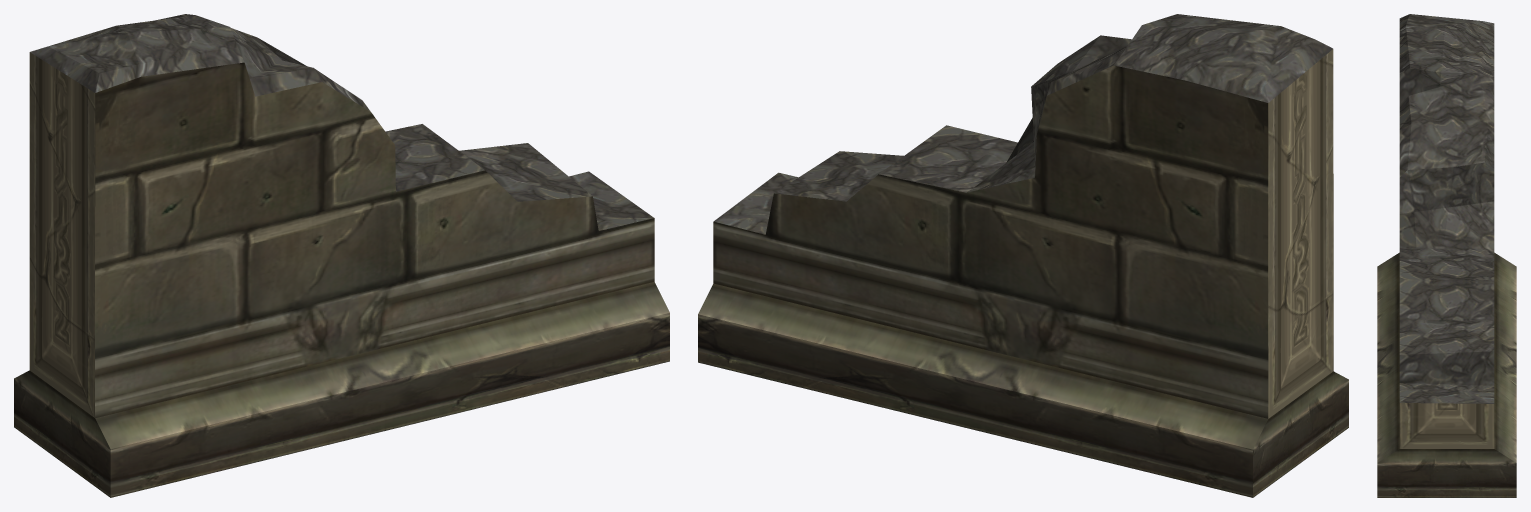
The model's file is F_neiqiang022.fbx.
3 views of the same model, side by side, from view 1: azimuth 30°, elevation 25°; view 2: azimuth 150°, elevation 25°; view 3: azimuth 270°, elevation 25° (orthographic). The views are drawn at different scales.
Parts seen in each view (by area): view 1: F_neiqiang022; view 2: F_neiqiang022; view 3: F_neiqiang022.
Boxes of the visible parts, left/top/right/bottom form: F_neiqiang022: left=14, top=14, right=669, bottom=497; F_neiqiang022: left=698, top=14, right=1348, bottom=497; F_neiqiang022: left=1377, top=14, right=1516, bottom=497.
Bounding box in the file's own units: 303 × 215 × 90.69.
